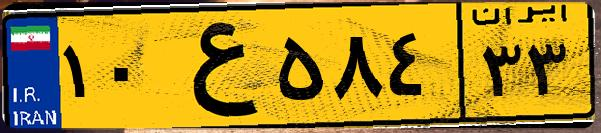0: (110, 28, 158, 98)
1: (57, 26, 110, 100)
3: (475, 38, 525, 113), (525, 38, 570, 115)
4: (385, 28, 445, 110)
5: (270, 28, 330, 110)
8: (330, 28, 385, 110)
ع: (158, 12, 270, 120)
